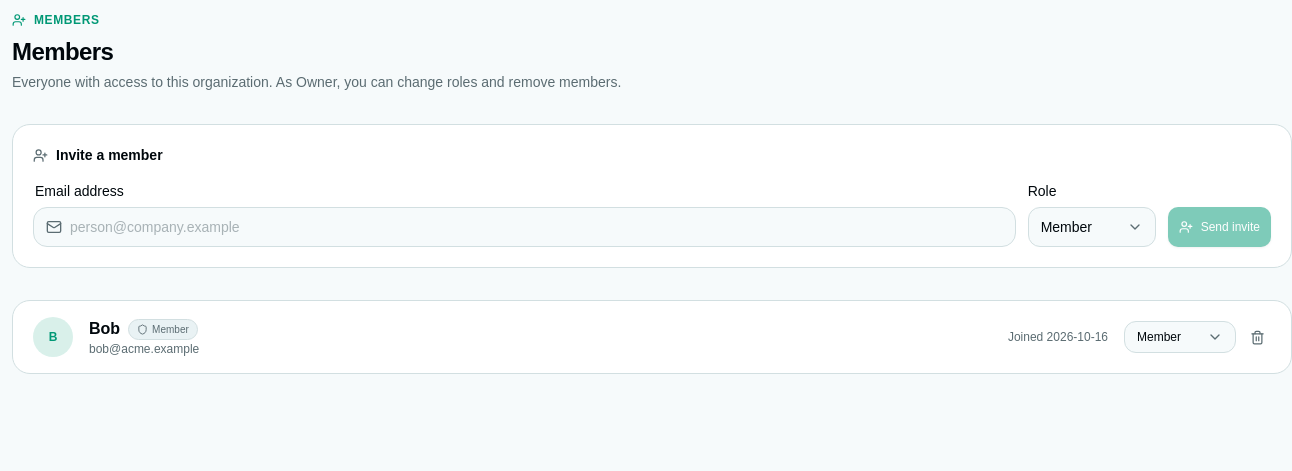
Test: MembersView › a failed invite surfaces the structured error (403 path included)
The image size is (1292, 471).
Type "dup@acme.example" into the field with test id "invite-email" at point(524, 227), box top-left (34, 208), bottom-right (1015, 246)
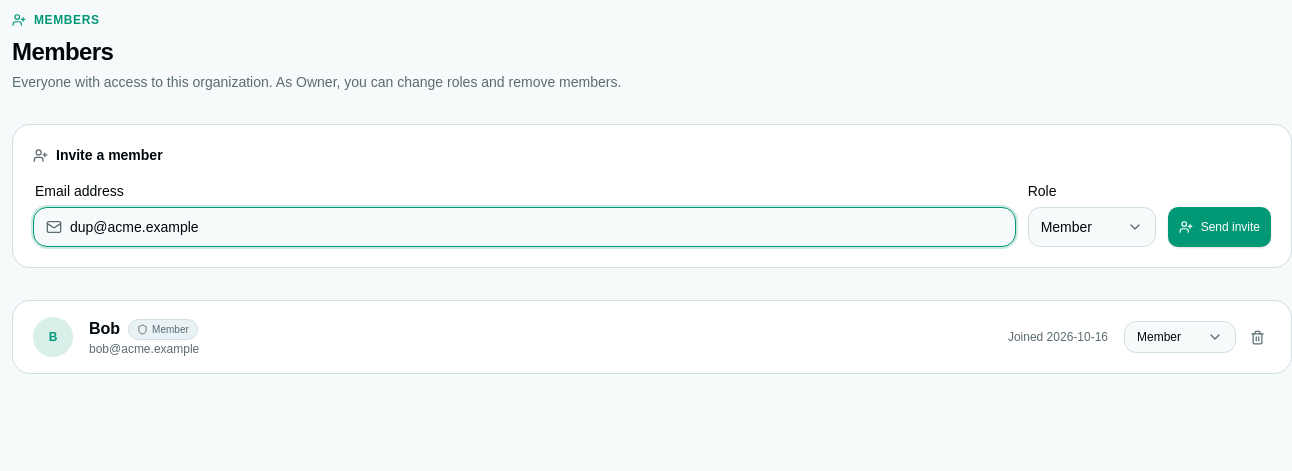
Click the button with test id "invite-submit" at point(1219, 227), box top-left (1168, 207), bottom-right (1271, 247)
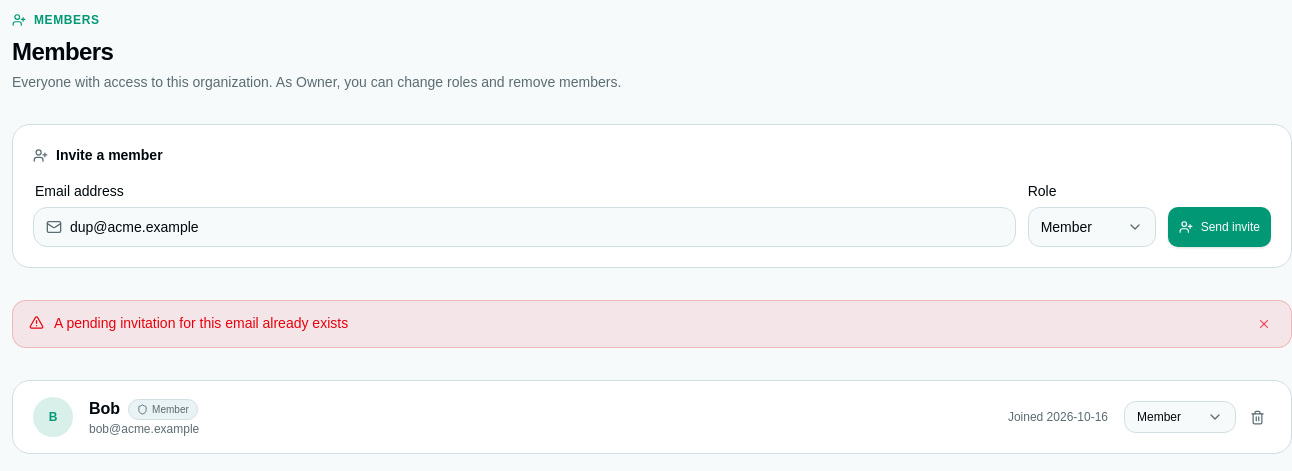
Expected: the message "A pending invitation for this email already exists" is shown, top-left (12, 300), bottom-right (1291, 348)
Expected: the message with test id "members-action-error" shows "pending invitation", top-left (54, 315), bottom-right (348, 331)
